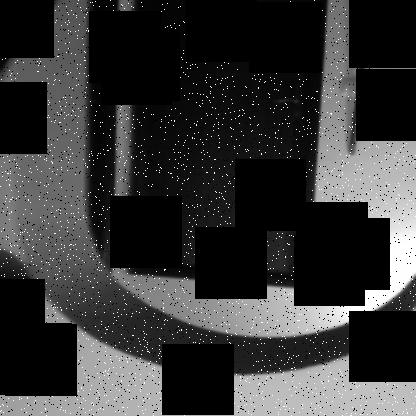Porte: (124, 0, 332, 290)
